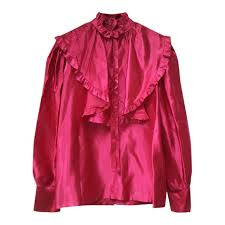C_blouse: (32, 12, 200, 218)
